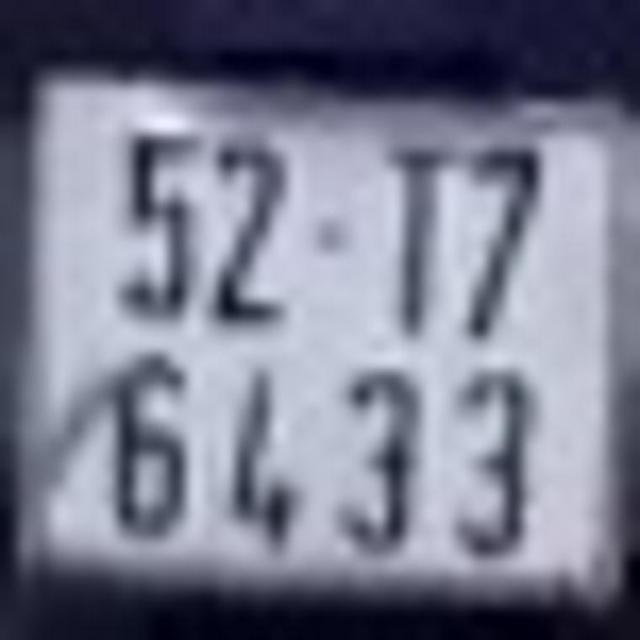2: (212, 121, 292, 330)
3: (449, 362, 535, 565), (340, 360, 424, 563)
4: (229, 357, 296, 560)
5: (124, 115, 198, 327)
6: (116, 347, 189, 544)
7: (463, 128, 541, 338)
T: (384, 128, 451, 337)
